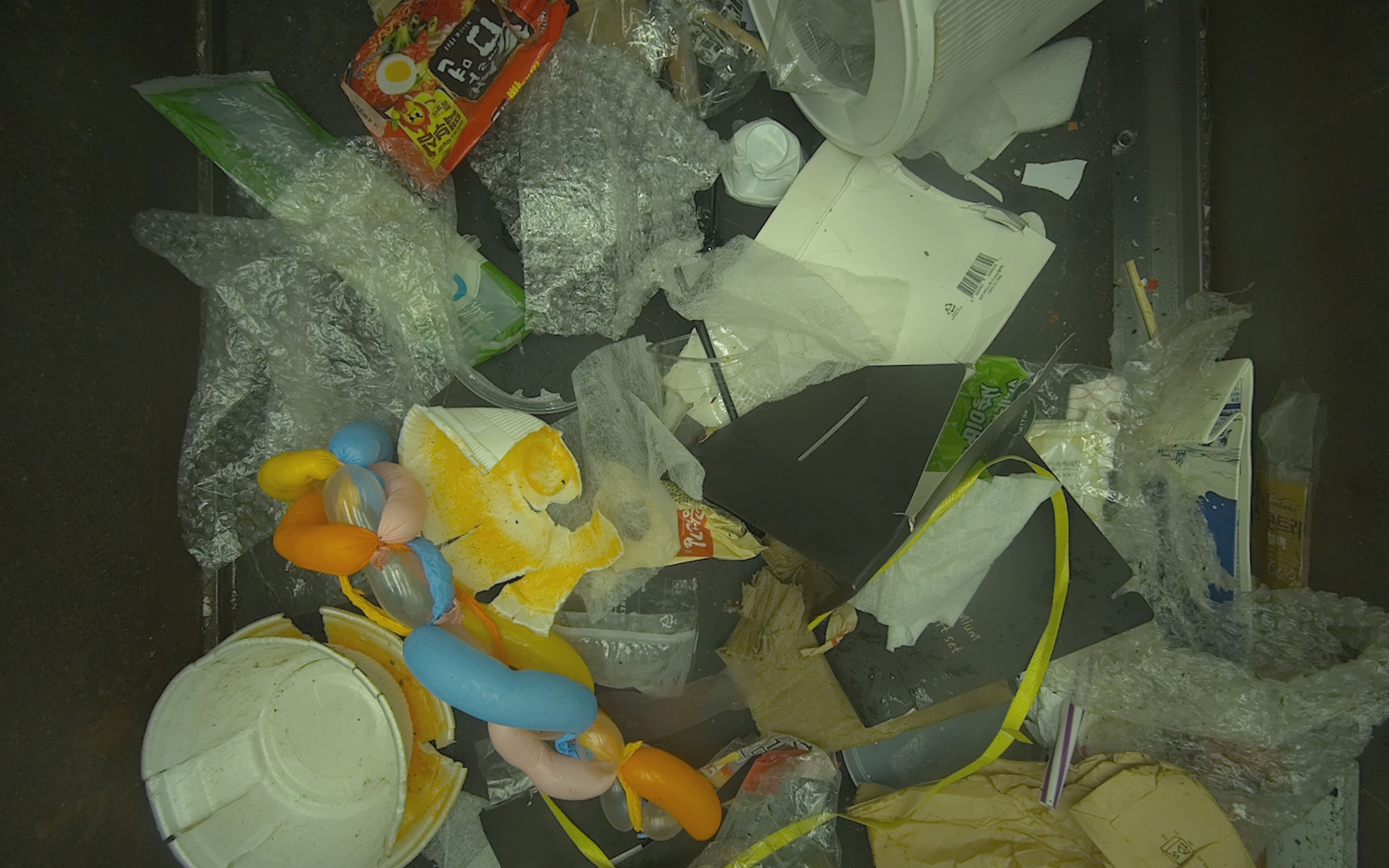PET-C: (645, 326, 753, 454)
